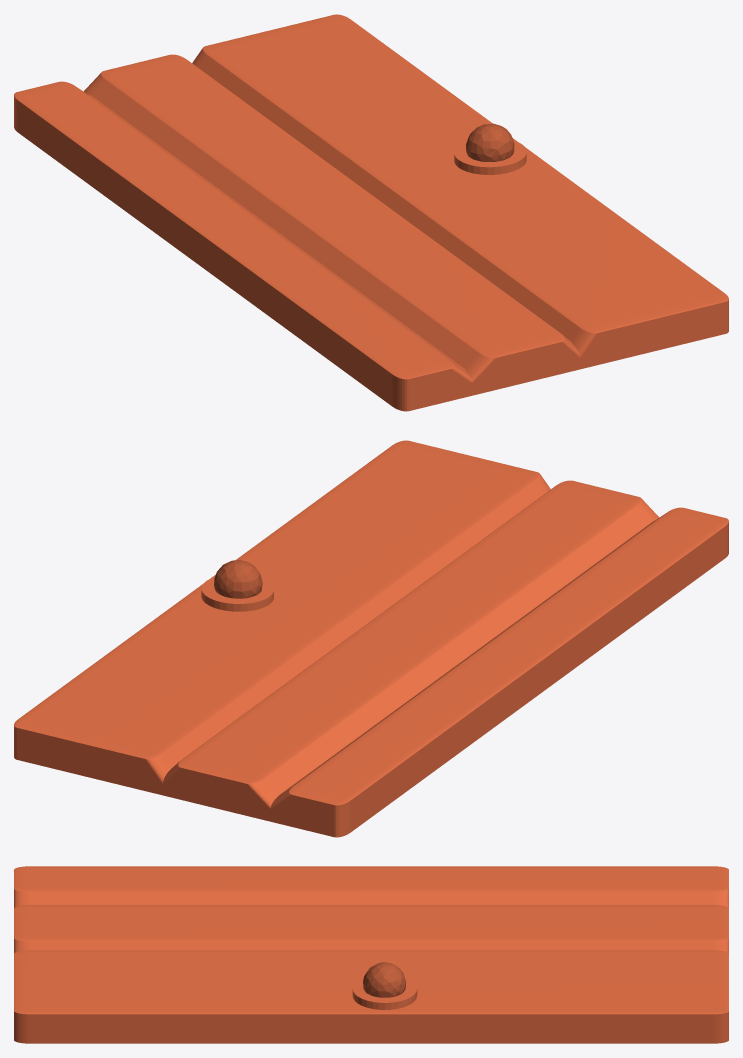
The model's file is puerta iz.fbx.
3 views of the same model, one above another, from view 1: azimuth 30°, elevation 25°; view 2: azimuth 150°, elevation 25°; view 3: azimuth 270°, elevation 25° (orthographic). The views are drawn at different scales.
Parts seen in each view (by area): view 1: Puerta iz; view 2: Puerta iz; view 3: Puerta iz.
Boxes of the visible parts, box(x1,y1,x2,y2) form: Puerta iz: box(14, 14, 728, 411); Puerta iz: box(14, 440, 728, 837); Puerta iz: box(14, 866, 728, 1043).
Size of the model in its own units: 187 by 36.42 by 381.
